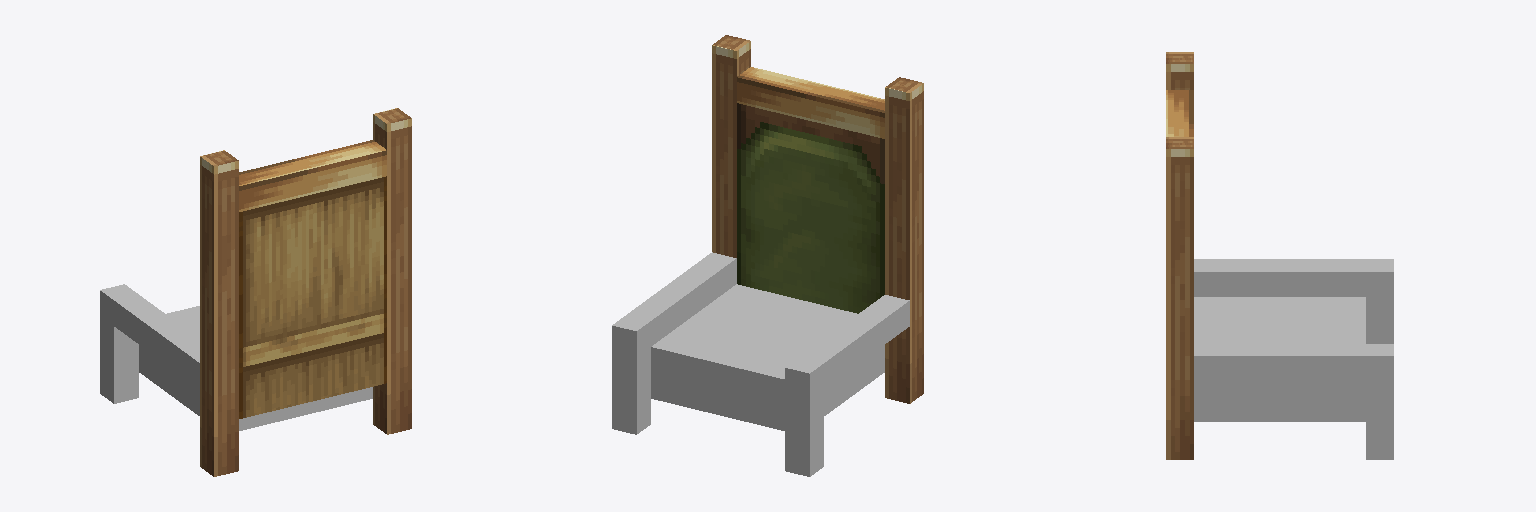
3 views of the same model, side by side, from view 1: azimuth 30°, elevation 25°; view 2: azimuth 150°, elevation 25°; view 3: azimuth 270°, elevation 25° (orthographic).
Parts seen in each view (by area): view 1: cube; view 2: cube; view 3: cube.
Part boxes in pixels (bbox=[...]): cube: bbox=[100, 108, 411, 476]; cube: bbox=[612, 35, 923, 476]; cube: bbox=[1166, 52, 1393, 459].
Size of the model in its own units: 0.5 by 0.75 by 0.5.
Materials: 5 (2 with a texture image).